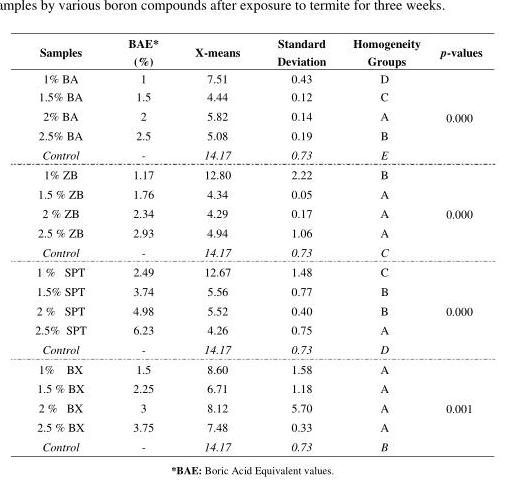table: (34, 34, 481, 453)
table column: (338, 34, 429, 453), (176, 34, 257, 453), (257, 34, 338, 453), (34, 34, 106, 453), (106, 34, 176, 453), (429, 34, 481, 453)
table column header: (34, 34, 481, 69)
table row: (34, 34, 481, 69), (34, 124, 481, 144), (34, 163, 481, 183), (34, 202, 481, 222), (34, 222, 481, 242), (34, 280, 481, 300), (34, 319, 481, 339), (34, 377, 481, 397), (34, 416, 481, 436), (34, 86, 481, 105), (34, 105, 481, 124), (34, 144, 481, 163), (34, 183, 481, 202), (34, 242, 481, 261), (34, 261, 481, 280), (34, 300, 481, 319), (34, 339, 481, 358), (34, 358, 481, 377), (34, 397, 481, 416), (34, 69, 481, 86), (34, 436, 481, 453)
table spanning cell: (429, 163, 481, 261), (429, 261, 481, 358), (429, 358, 481, 453), (429, 69, 481, 163)
